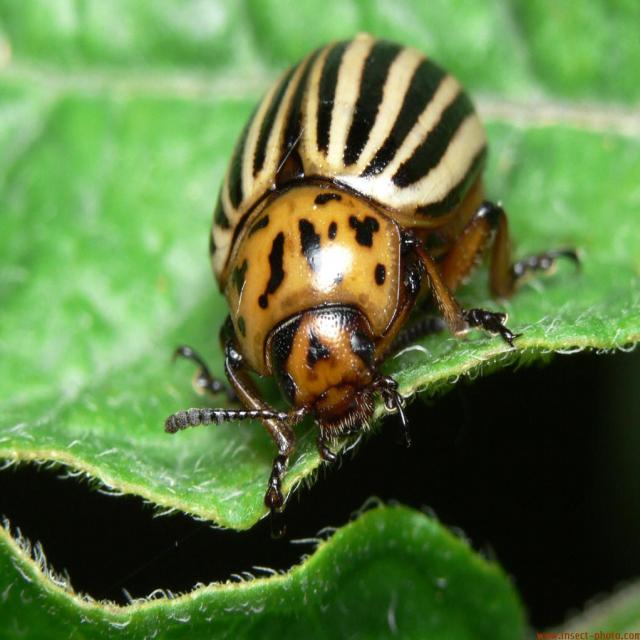ShuCaiHuaBanChong-Grown-: (200, 52, 503, 435)
